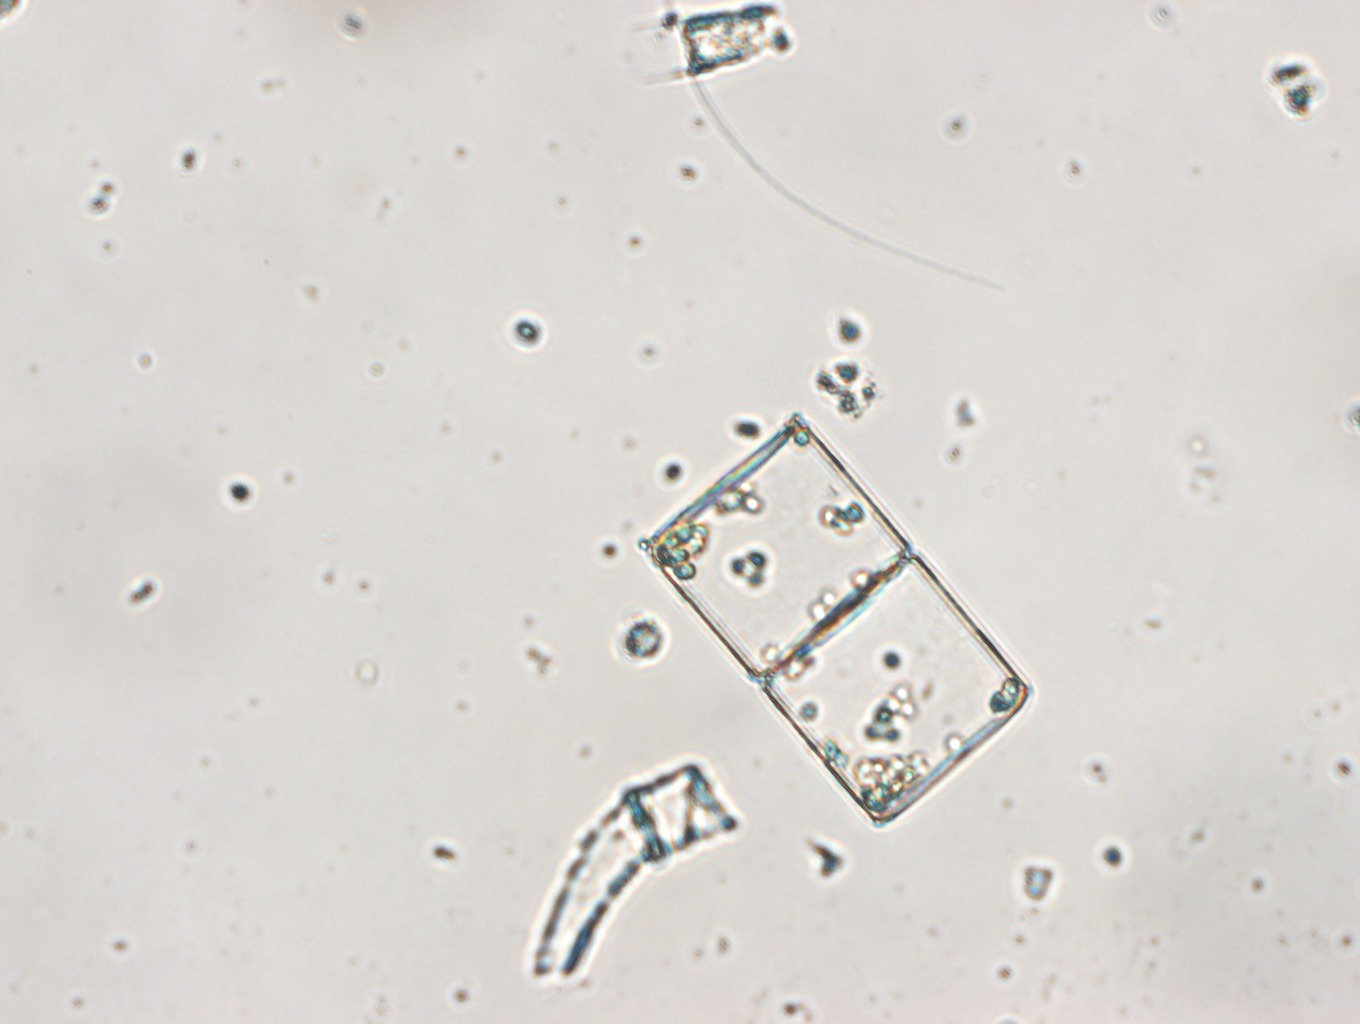guinardia flaccida: (632, 412, 1040, 830)
